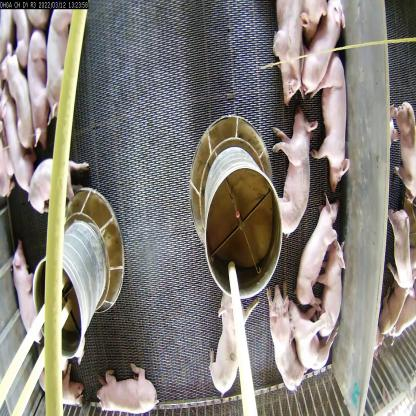Pig: (261, 104, 315, 242), (308, 46, 354, 199), (260, 282, 305, 396), (208, 294, 258, 393), (298, 0, 346, 103), (41, 7, 78, 126), (296, 200, 335, 306), (286, 300, 339, 378), (24, 154, 94, 211), (7, 244, 45, 349), (92, 360, 164, 415), (2, 38, 35, 155), (270, 0, 306, 101), (0, 86, 34, 192), (26, 21, 53, 151), (384, 200, 416, 307), (316, 238, 346, 343), (36, 353, 85, 411), (392, 93, 416, 204)
